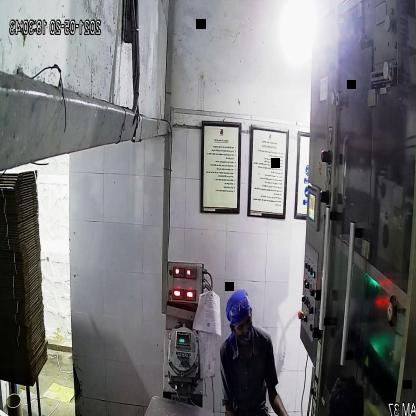no_goggles: (234, 314, 257, 334)
